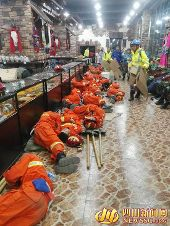10+: (1, 36, 168, 225)
down: (1, 152, 54, 225), (37, 107, 75, 172), (82, 101, 106, 131), (59, 107, 81, 137), (107, 81, 126, 102)
